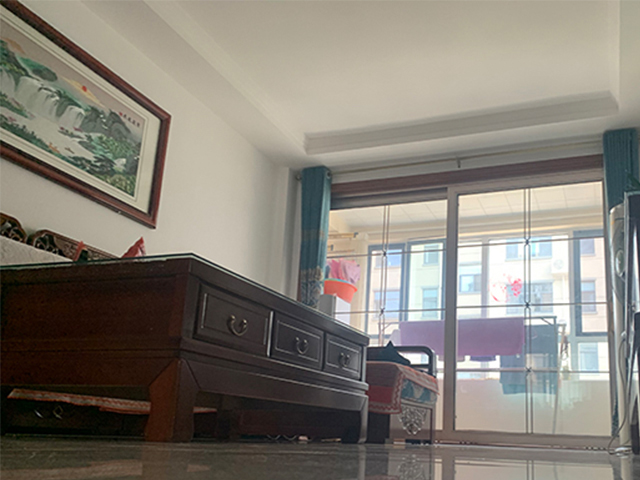sofa: (364, 340, 438, 444)
table: (2, 252, 370, 445)
wire: (606, 337, 633, 455)
